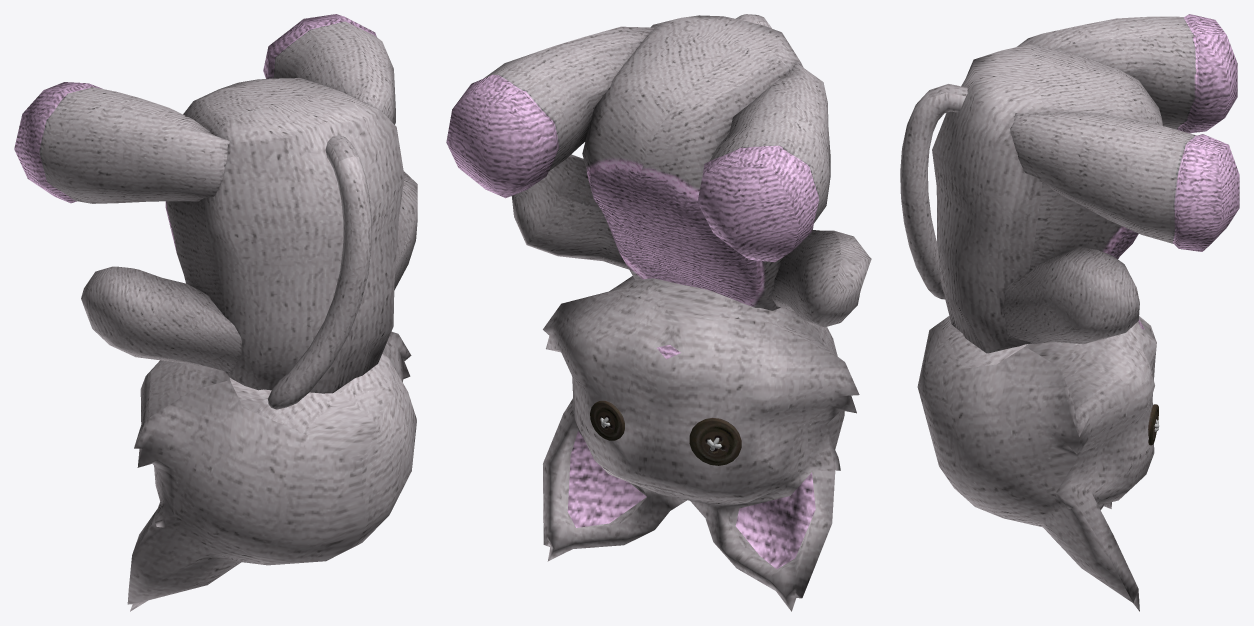
File: npc_acc_kat_plushy.glb
The picture shows the model from 3 angles, left to right: view 1: azimuth 30°, elevation 25°; view 2: azimuth 150°, elevation 25°; view 3: azimuth 270°, elevation 25°; orthographic projection. The views are drawn at different scales.
Parts seen in each view (by area): view 1: g_lootbag; view 2: g_lootbag; view 3: g_lootbag.
Boxes of the visible parts, x1,y1,x2,y2 form: g_lootbag: (14, 14, 417, 611); g_lootbag: (446, 14, 871, 611); g_lootbag: (900, 14, 1239, 611).
Bounding box in the file's own units: 0.5637 × 0.7812 × 0.4867.
1 material, 1 textured.
